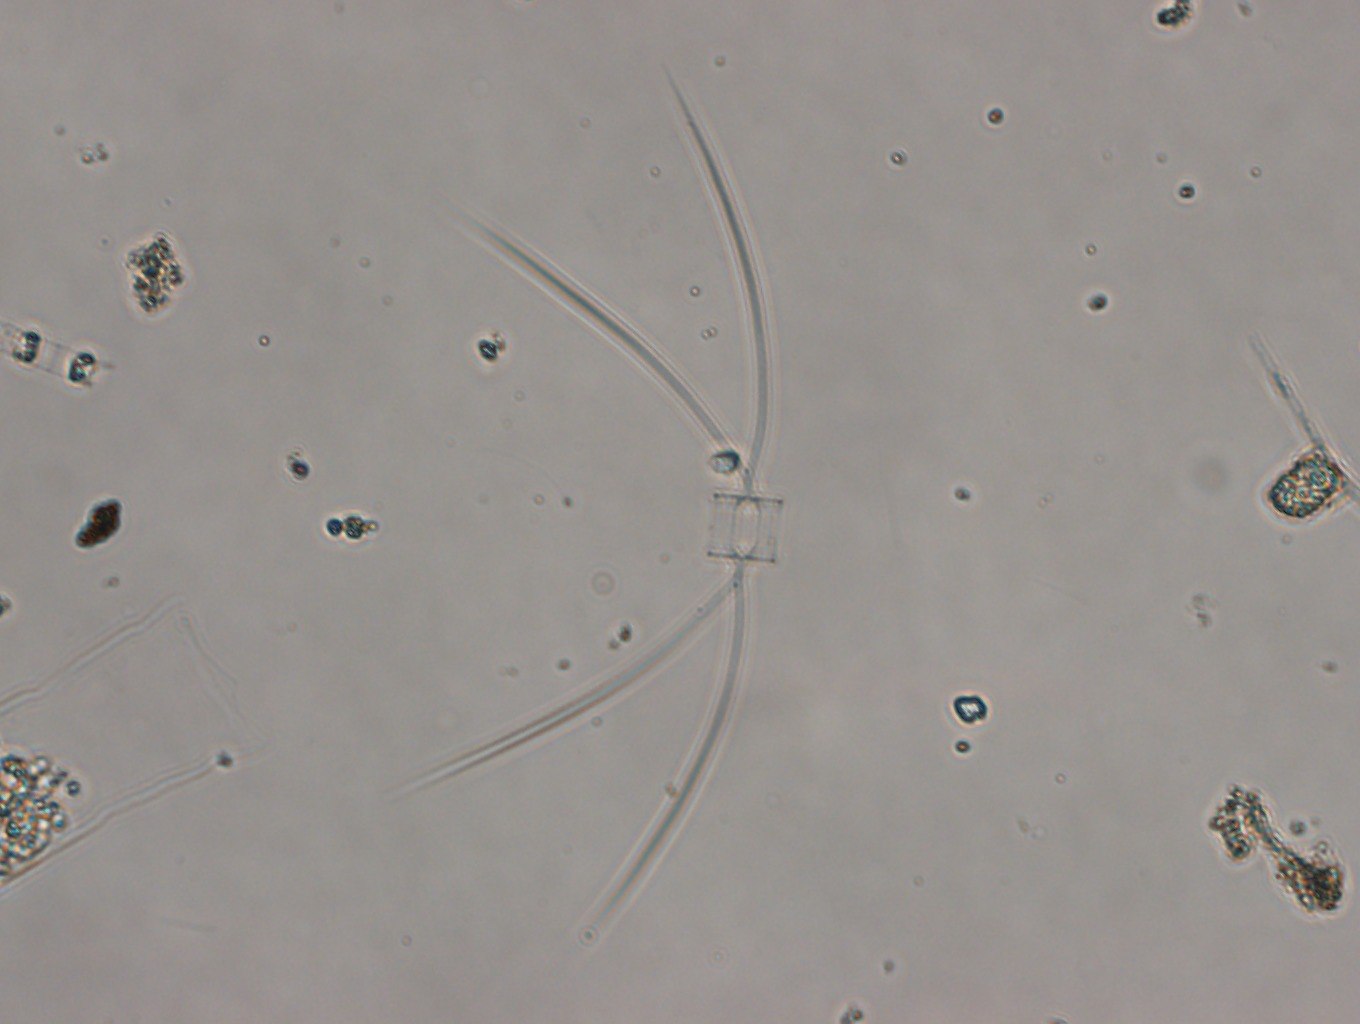chaetoceros: (392, 61, 785, 952)
